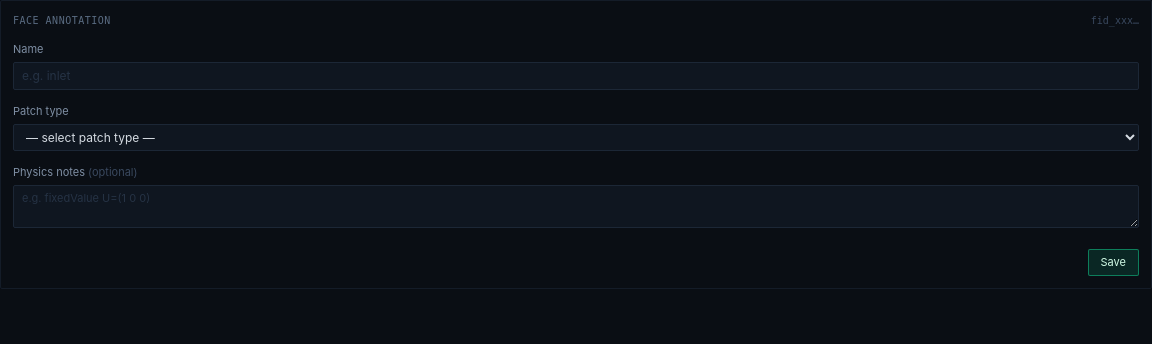
Test case: AnnotationPanel › surfaces save errors as inline error text
Step 1. Type "outlet" into the field with test id "annotation-panel-name" → (576, 76), box x1=13 y1=62 x2=1139 y2=90
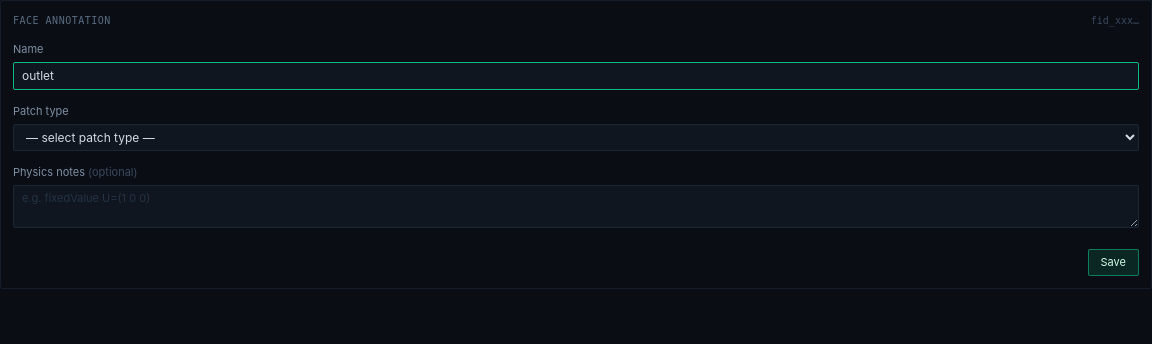
Step 2. Click the button with test id "annotation-panel-save" → (1113, 262), box x1=1088 y1=249 x2=1139 y2=276
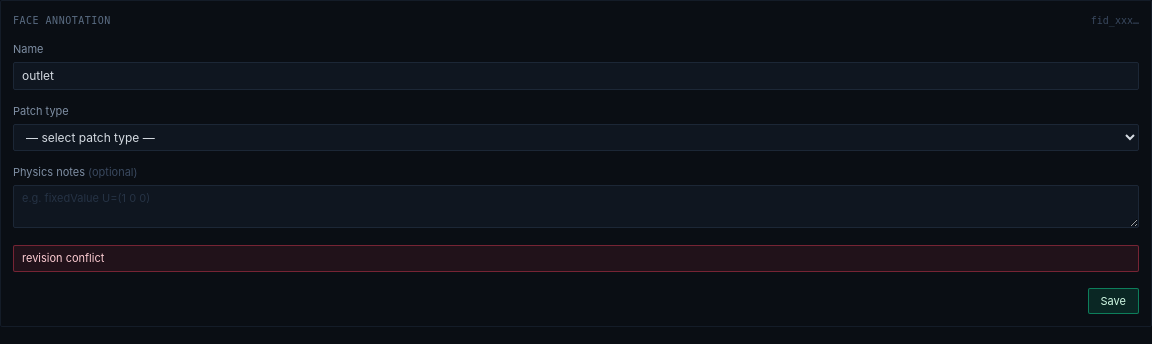
Expected: the text with test id "annotation-panel-error" reads "revision conflict", x1=22 y1=251 x2=104 y2=265
